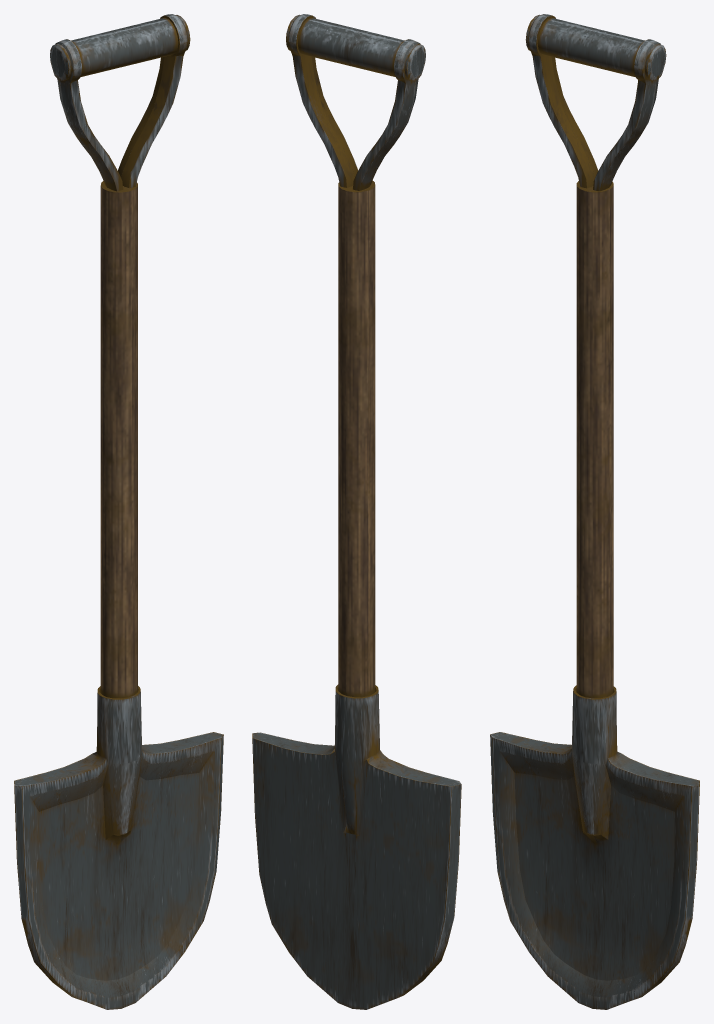
The model's file is Old shovel.fbx.
3 renders of one model, left to right at view 1: azimuth 30°, elevation 25°; view 2: azimuth 150°, elevation 25°; view 3: azimuth 330°, elevation 25°, orthographic.
Visible parts, largest first — view 1: Cylinder.002; view 2: Cylinder.002; view 3: Cylinder.002.
Boxes of the visible parts, x1,y1,x2,y2 form: Cylinder.002: [14, 14, 223, 1009]; Cylinder.002: [252, 14, 461, 1009]; Cylinder.002: [490, 14, 699, 1009].
Size of the model in its own units: 21.7 by 96.69 by 3.91.
